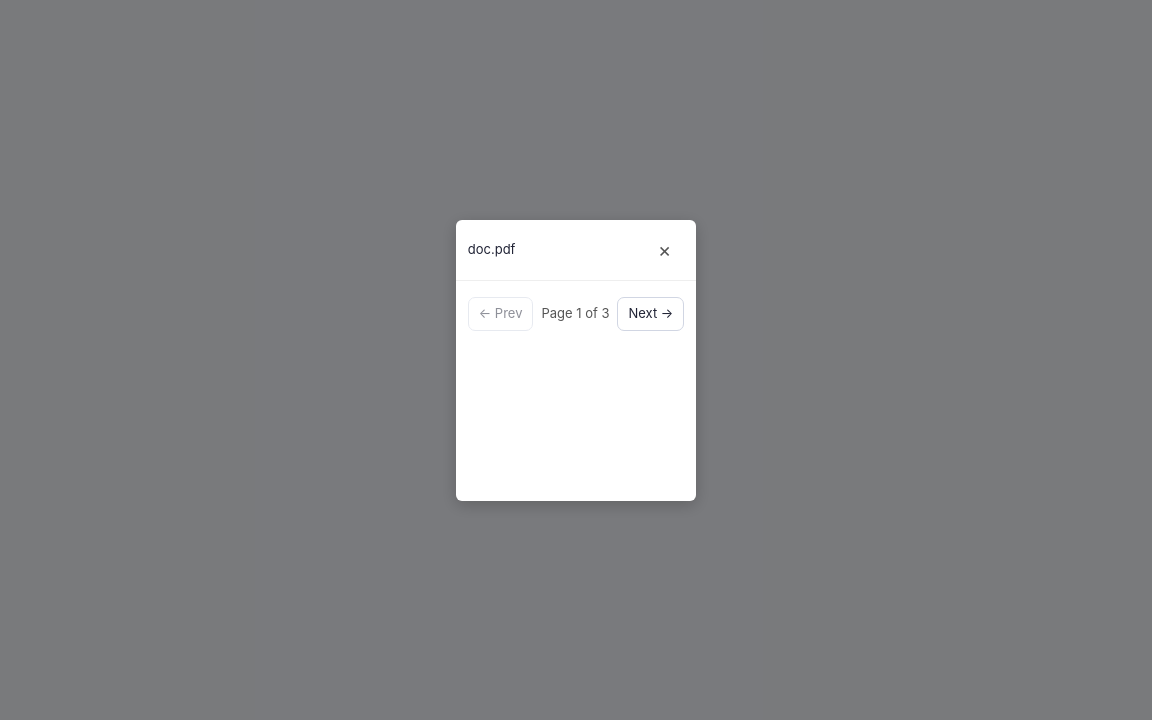
AttachmentPreviewModal › disables Prev on page 1 and Next on the last page
The width and height of the screenshot is (1152, 720).
Expected: the button with aria-label "Previous page" is disabled, [468, 296, 534, 330]
Click the button with aria-label "Next page": {"x": 651, "y": 314} [618, 296, 684, 330]
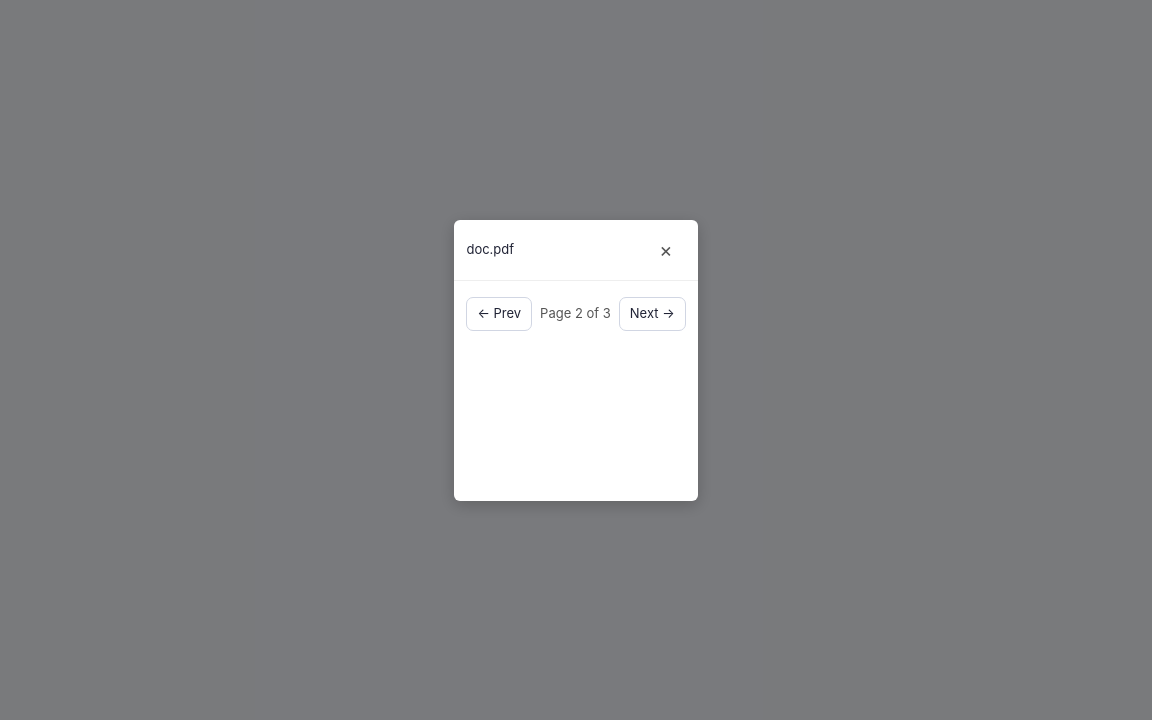
Now the button with aria-label "Previous page" is enabled, box [466, 296, 532, 330]
Now the text "Page 2 of 3" is shown, box [540, 304, 611, 323]
Click the button with aria-label "Next page": {"x": 652, "y": 314} [619, 296, 686, 330]
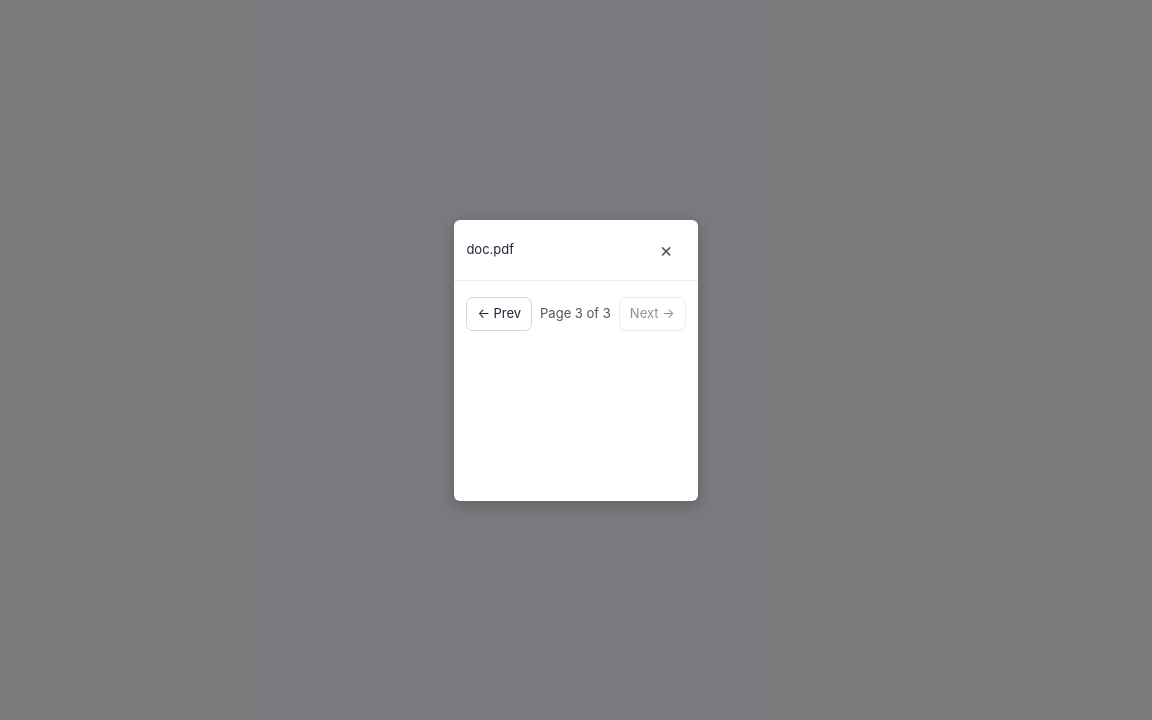
Now the button with aria-label "Previous page" is enabled, box [466, 296, 532, 330]
Now the button with aria-label "Next page" is disabled, box [619, 296, 686, 330]
Now the text "Page 3 of 3" is shown, box [540, 304, 611, 323]
